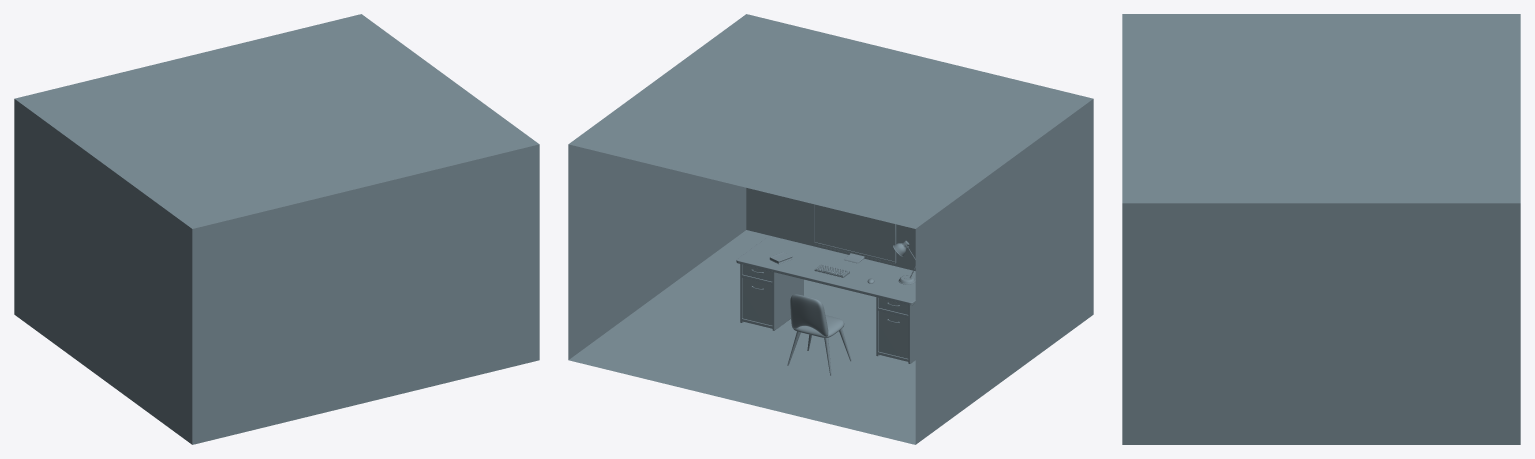
The picture shows the model from 3 angles, left to right: view 1: azimuth 30°, elevation 25°; view 2: azimuth 150°, elevation 25°; view 3: azimuth 270°, elevation 25°; orthographic projection. The views are drawn at different scales.
Parts seen in each view (by area): view 1: pPlane5; view 2: pPlane5, zhuozi3, polySurface9, polySurface6; view 3: pPlane5.
Part boxes in pixels (x1,y1,x2,y2): pPlane5: (14, 14, 539, 444); pPlane5: (568, 14, 1093, 444); zhuozi3: (736, 236, 915, 363); polySurface9: (814, 204, 896, 263); polySurface6: (787, 294, 851, 375); pPlane5: (1122, 14, 1520, 444).
Size of the model in its own units: 132 by 78.25 by 117.
